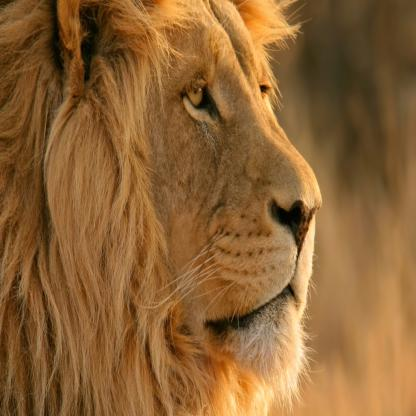lion: (57, 0, 320, 397)
